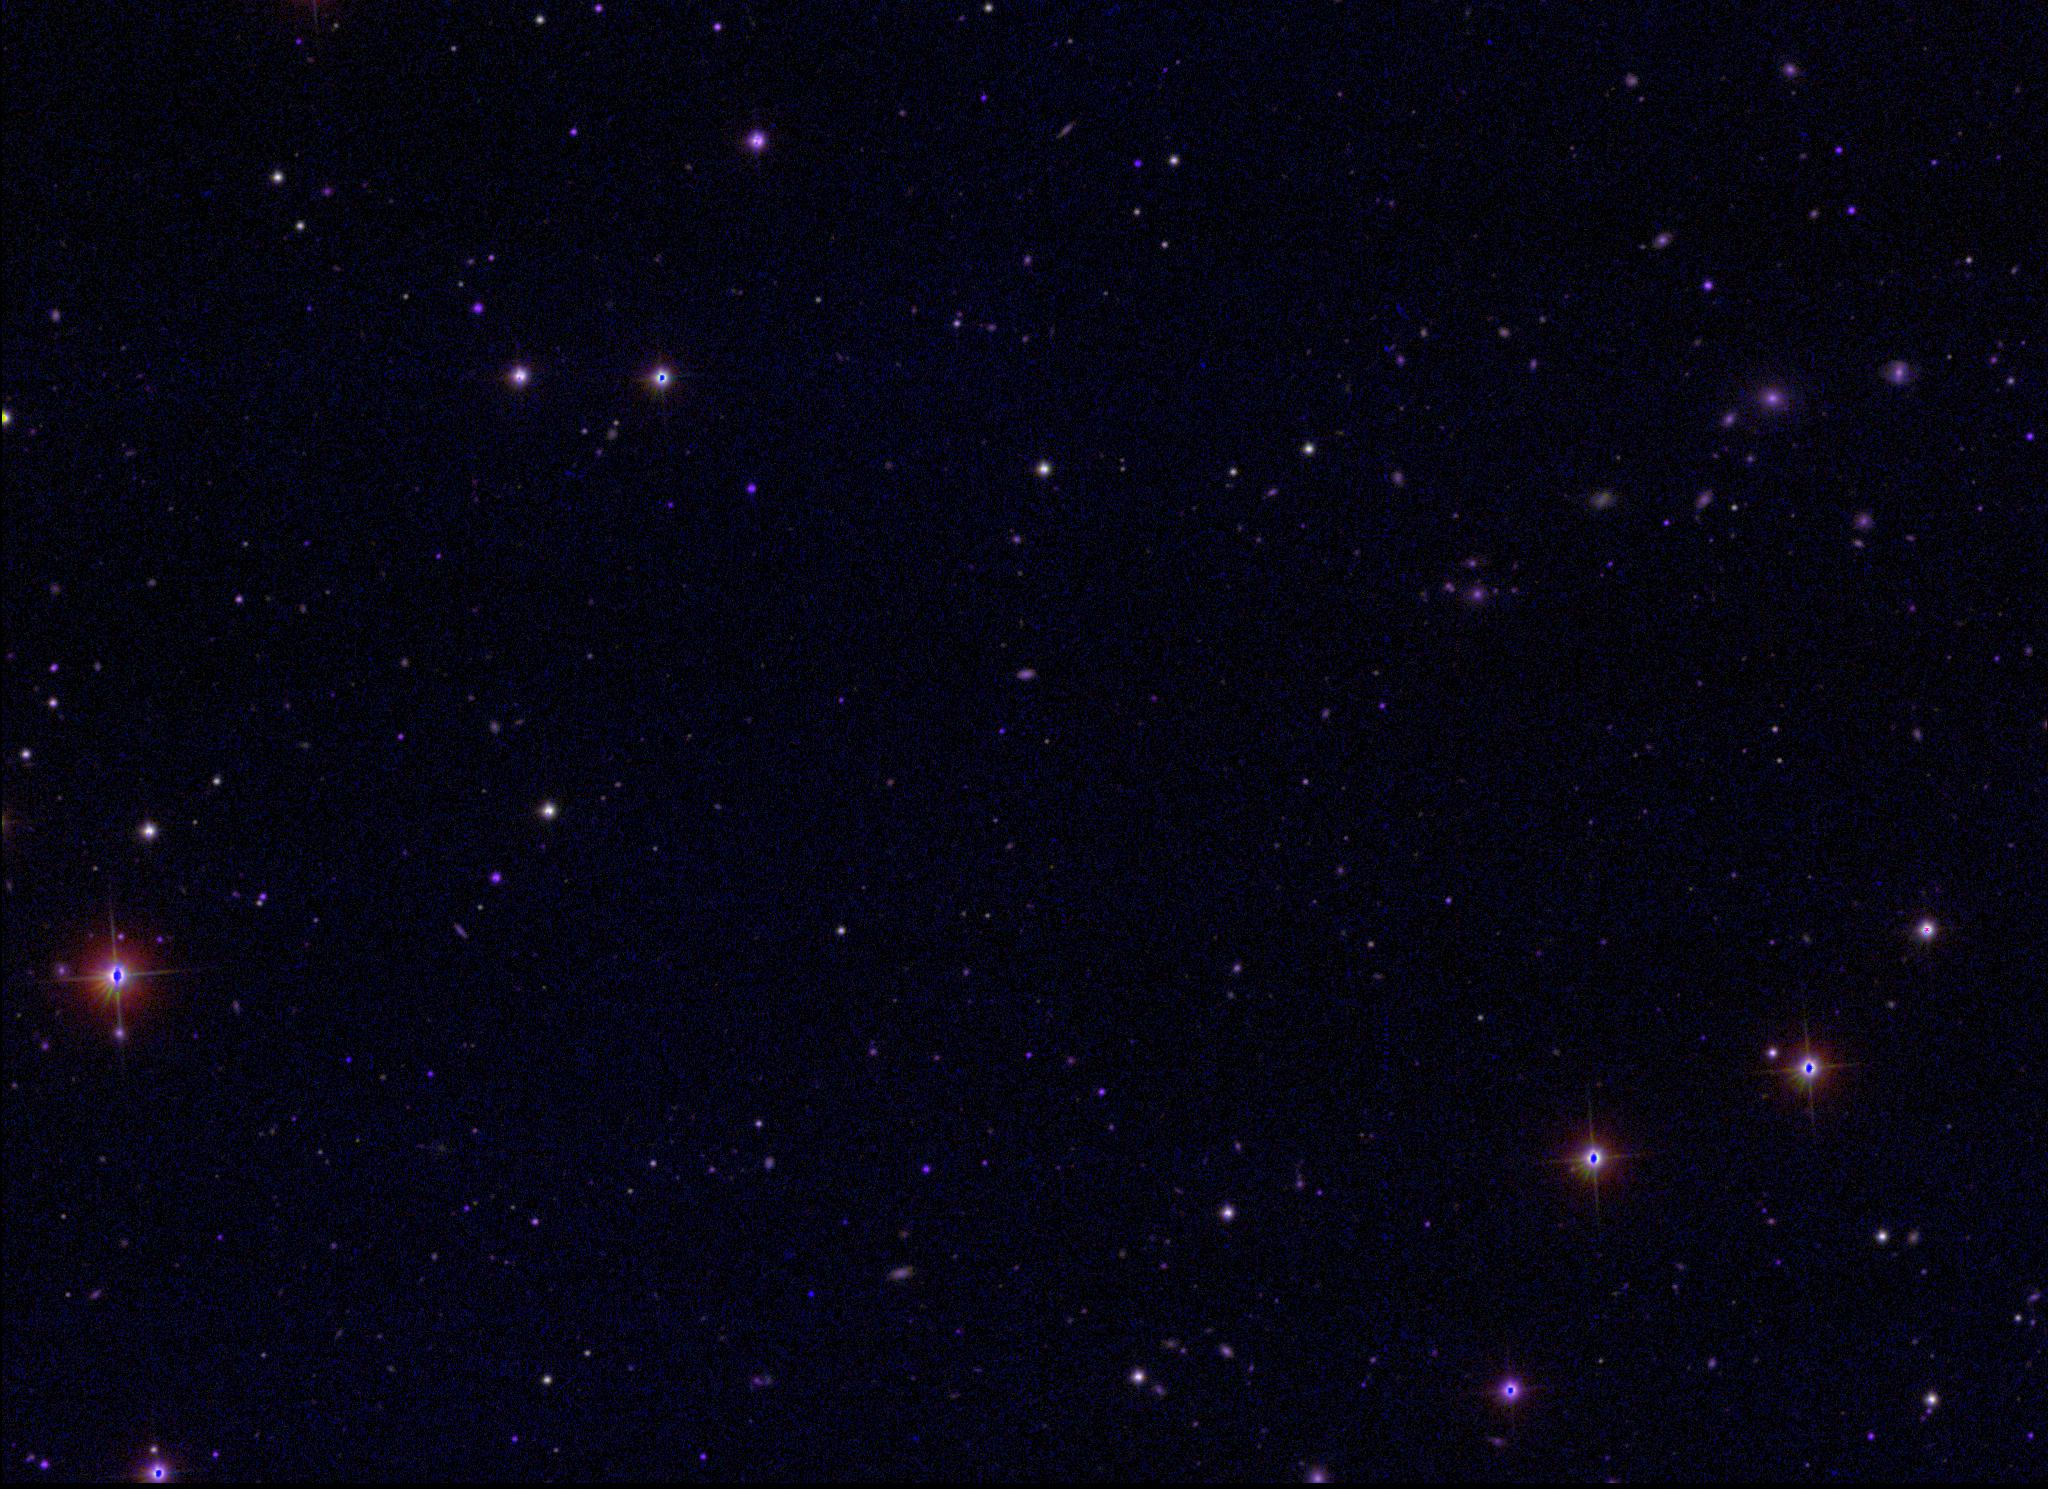L: (805, 1287, 817, 1301)
